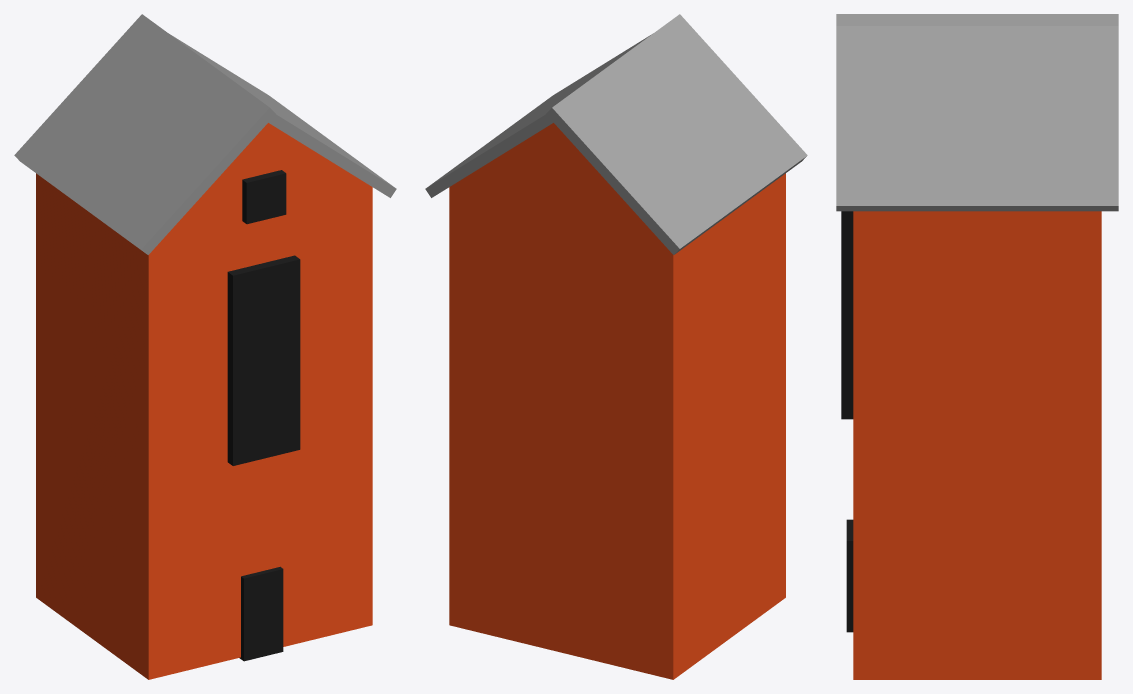
File: House2.fbx
3 views of the same model, side by side, from view 1: azimuth 30°, elevation 25°; view 2: azimuth 150°, elevation 25°; view 3: azimuth 270°, elevation 25° (orthographic). The views are drawn at different scales.
Visible parts, largest first — view 1: House2; view 2: House2; view 3: House2.
Boxes of the visible parts, bbox=[...] form: House2: bbox=[14, 14, 396, 679]; House2: bbox=[425, 14, 807, 679]; House2: bbox=[836, 14, 1118, 679].
Bounding box in the file's own units: 322 × 666 × 280.
